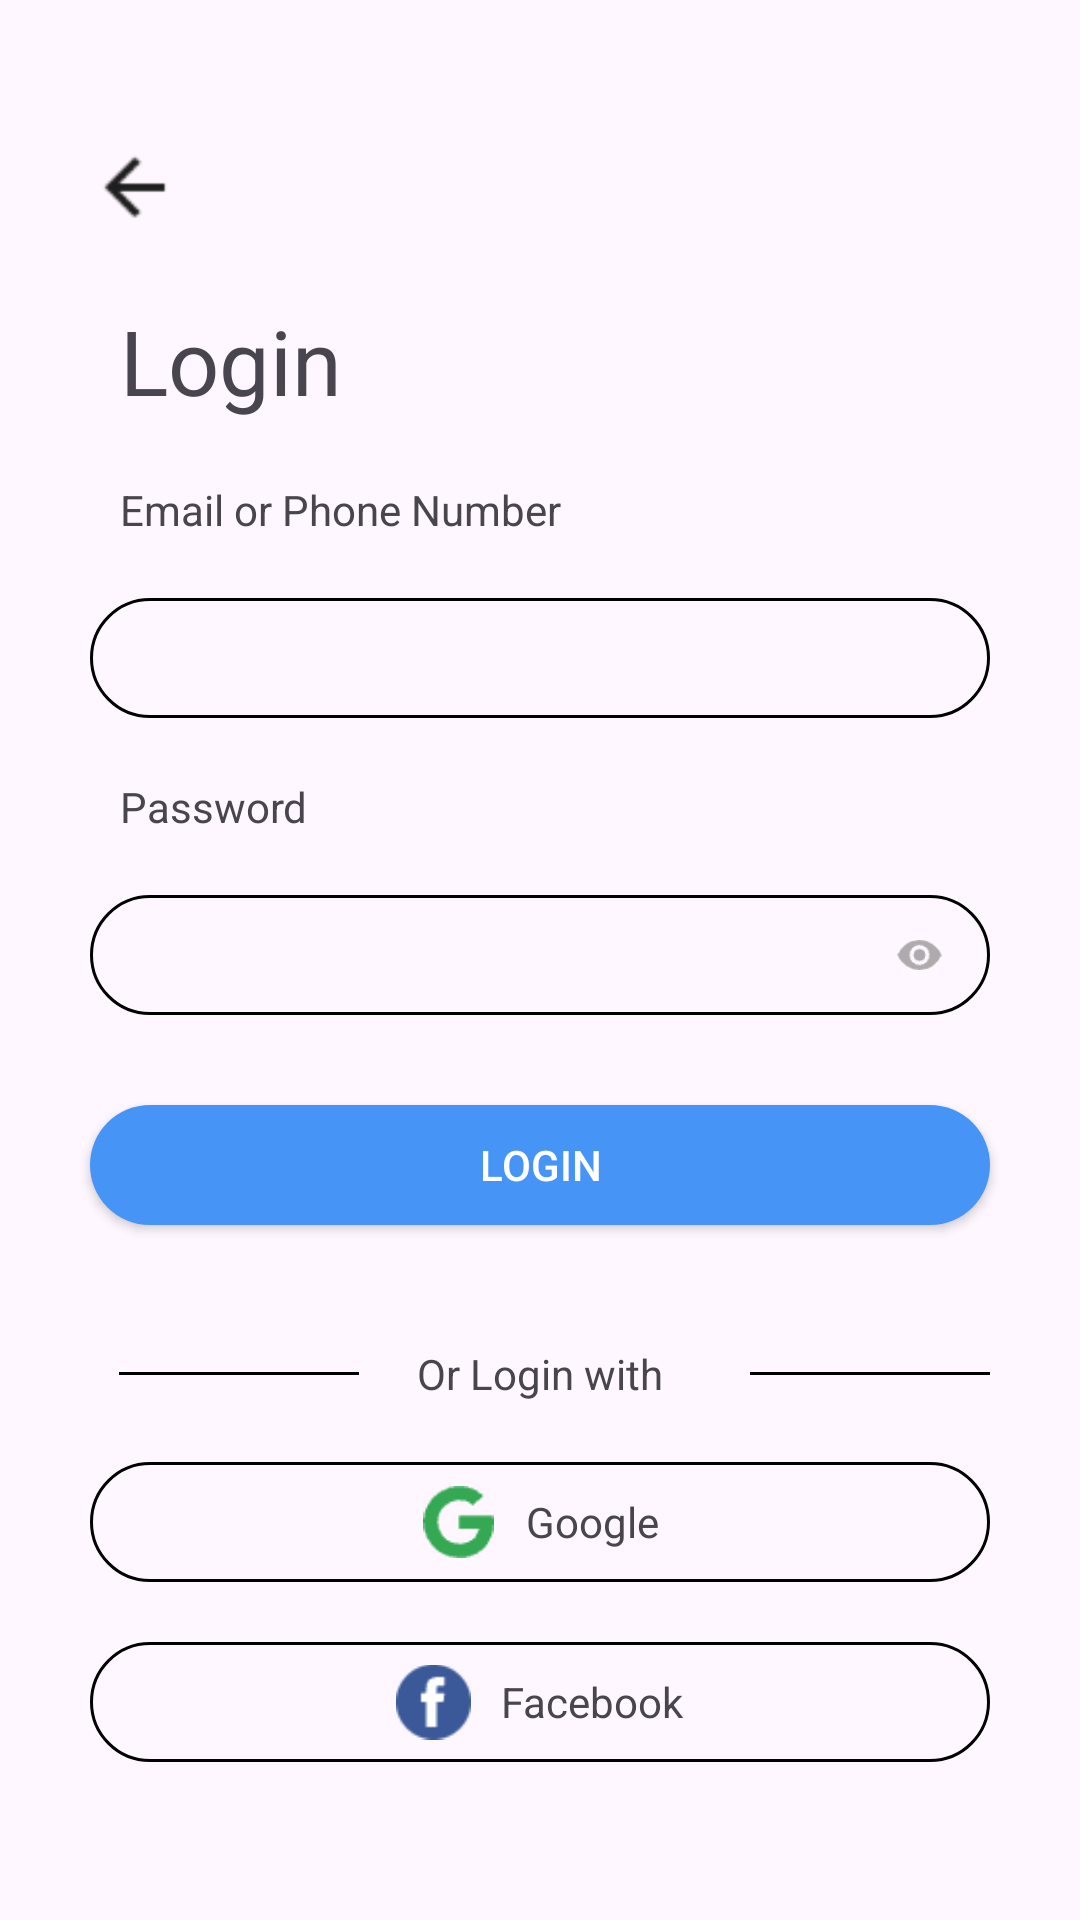

Locate icon controls on the screen. Image size 1080 x 1920, boxes as region(x1, y1, x2, y2).
back: region(104, 157, 166, 218)
eye: region(897, 940, 942, 970)
